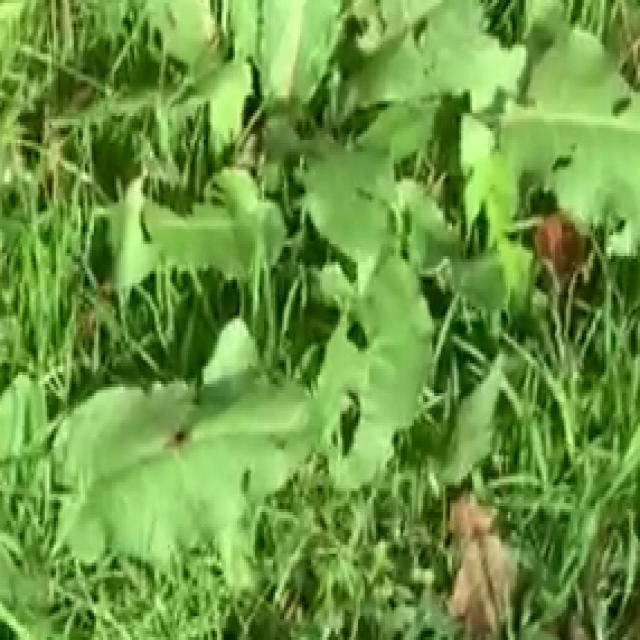organic waste: (45, 0, 640, 586)
